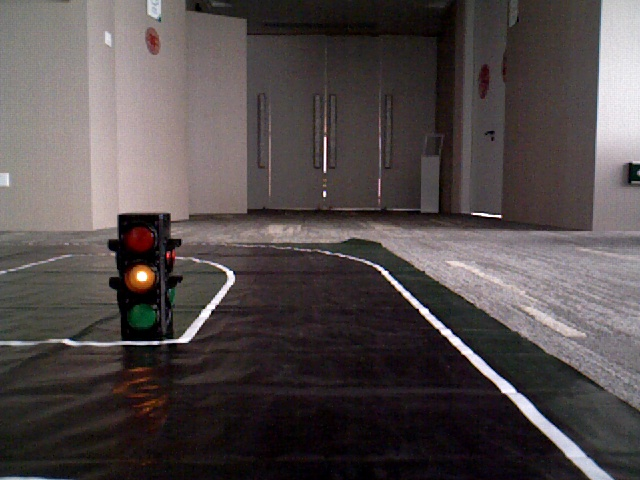yellow: (121, 214, 158, 332)
